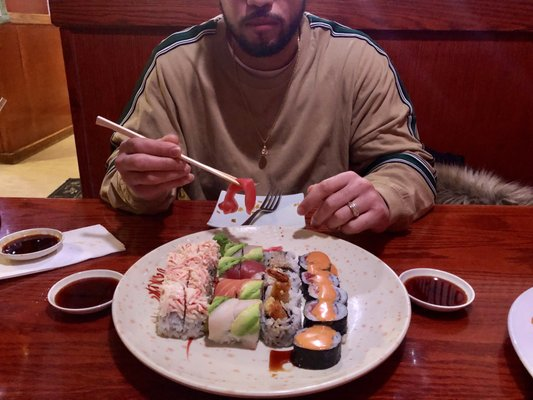sushi: (398, 268, 476, 316), (0, 227, 63, 264)
